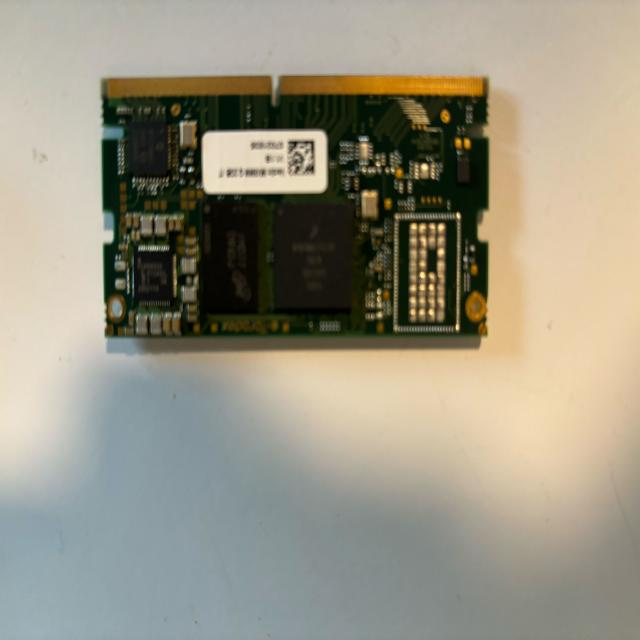som: (96, 77, 492, 344)
